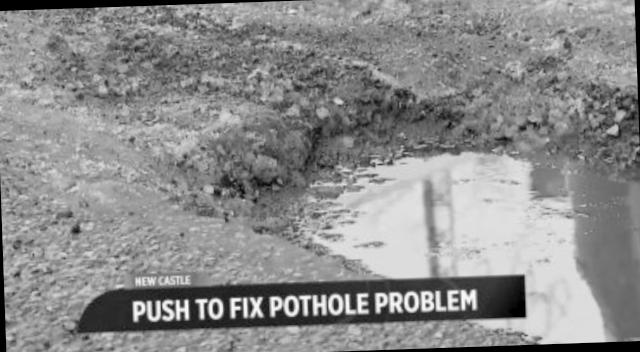Pothole: (187, 24, 640, 352)
